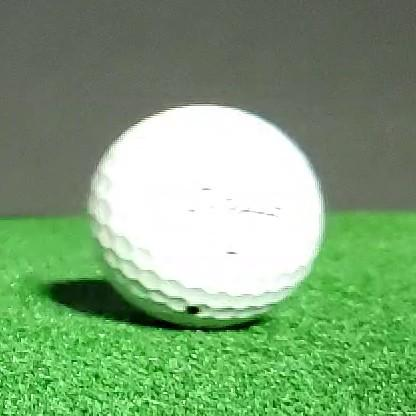golfball: (87, 105, 324, 329)
